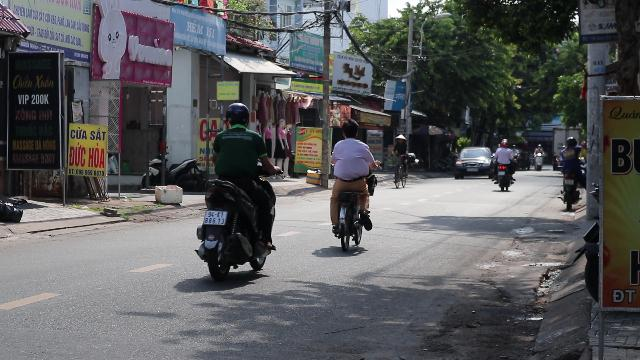helmet: (223, 101, 251, 127)
licenseplate: (204, 211, 226, 225)
motorcyclist: (196, 100, 280, 282), (324, 119, 380, 253)
nohelmet: (339, 119, 358, 139)
